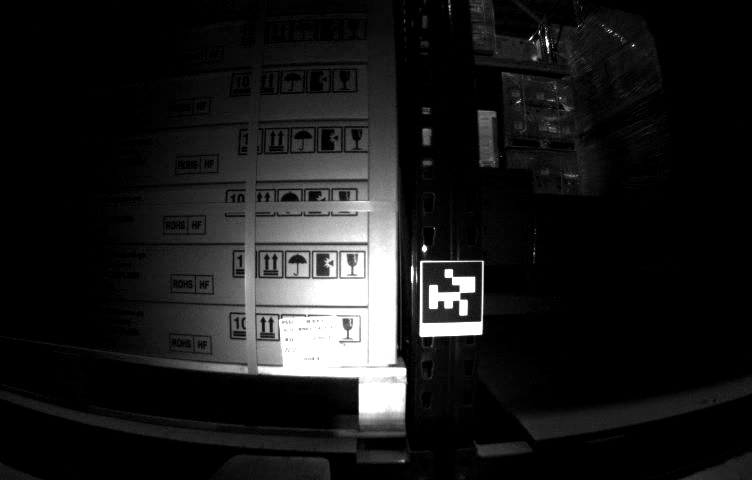True Barcode: (278, 315, 339, 372)
